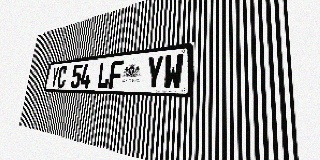4: (79, 63, 92, 88)
5: (70, 64, 83, 88)
C: (57, 66, 68, 88)
F: (108, 60, 124, 89)
L: (97, 61, 111, 88)
W: (163, 54, 184, 89)
Y: (145, 56, 164, 89), (49, 67, 60, 88)
